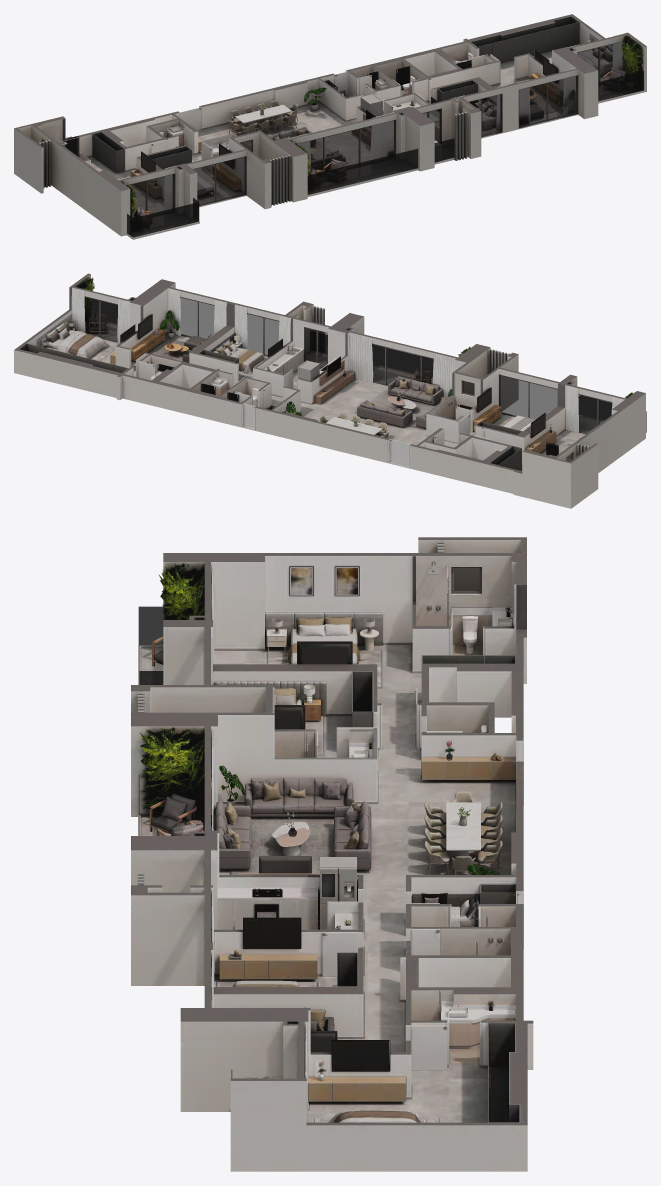
The model's file is apartment.glb.
3 views of the same model, one above another, from view 1: azimuth 30°, elevation 25°; view 2: azimuth 150°, elevation 25°; view 3: azimuth 270°, elevation 25° (orthographic). The views are drawn at different scales.
Parts seen in each view (by area): view 1: Object_8, Object_4, Object_6, Object_11; view 2: Object_8, Object_4, Object_6, Object_13, Object_11; view 3: Object_8, Object_6, Object_11, Object_4.
Boxes of the visible parts, box(x1,y1,x2,y2) form: Object_8: box(14, 14, 646, 239); Object_4: box(43, 42, 643, 237); Object_6: box(134, 48, 625, 222); Object_11: box(127, 38, 643, 229); Object_8: box(14, 273, 646, 508); Object_4: box(84, 297, 646, 461); Object_6: box(46, 311, 571, 457); Object_13: box(160, 310, 551, 434); Object_11: box(78, 277, 634, 398); Object_8: box(131, 537, 533, 1171); Object_6: box(161, 617, 479, 1122); Object_11: box(140, 563, 281, 1078); Object_4: box(138, 568, 487, 1077).
Size of the model in its own units: 31.56 by 2.72 by 9.95.
Materials: 5 (4 with a texture image).
